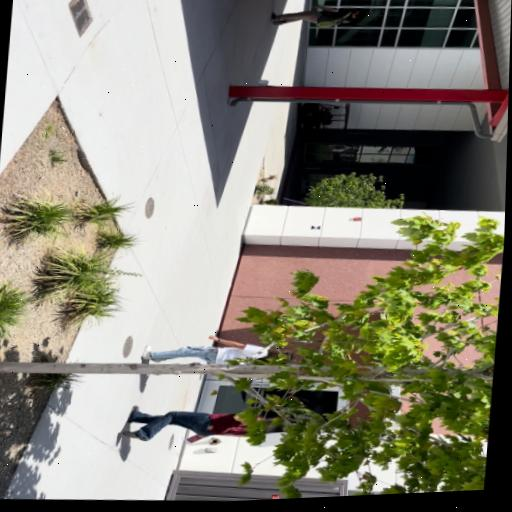target6: (311, 224, 321, 231)
